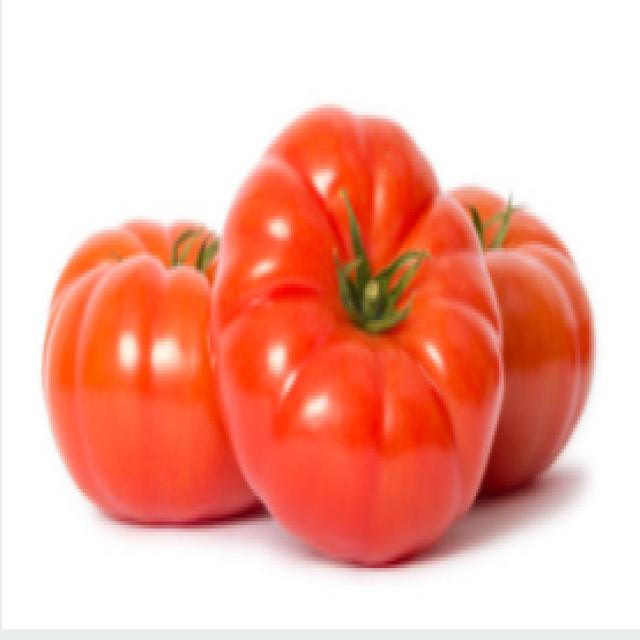Tomato: (216, 115, 497, 555), (60, 215, 252, 529)
